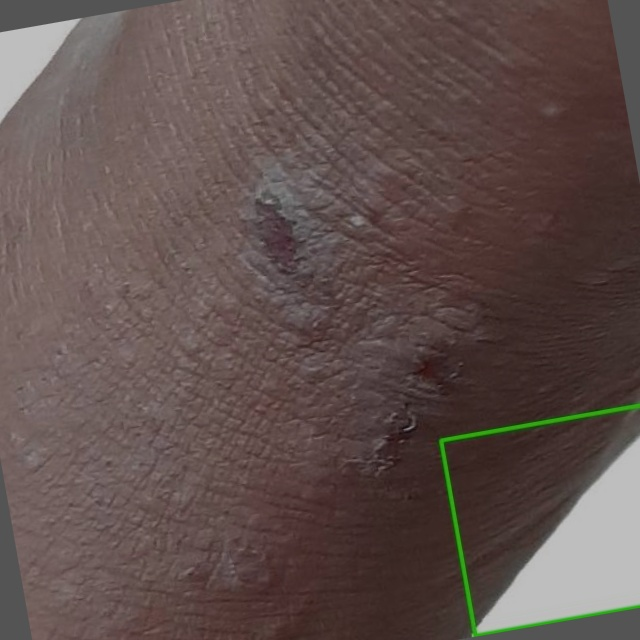Atopic Dermatitis: (440, 405, 639, 635)
